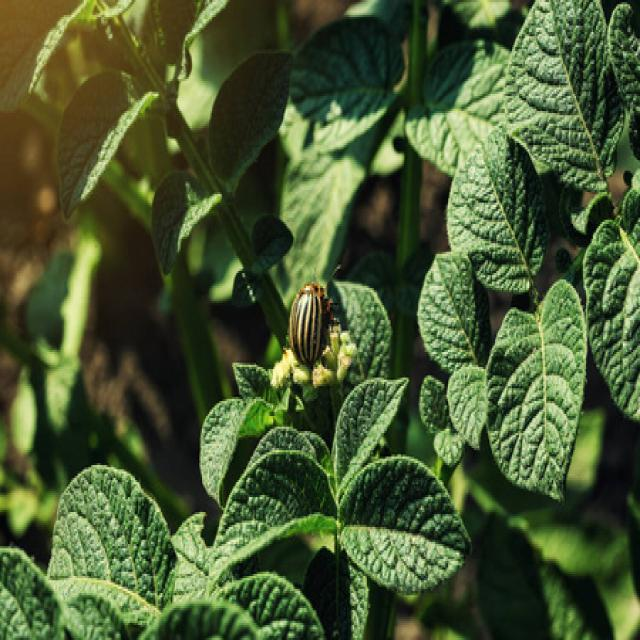ShuCaiHuaBanChong-Grown-: (274, 273, 342, 371)
